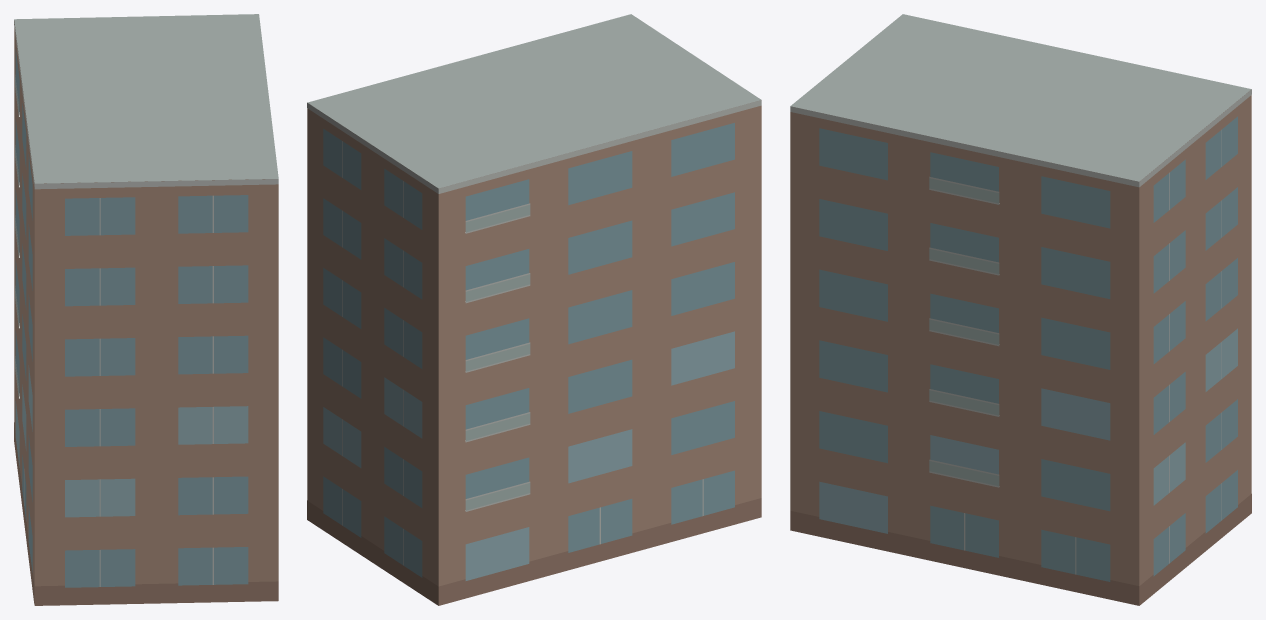
File: survey-upis-32555107.glb
3 views of the same model, side by side, from view 1: azimuth 30°, elevation 25°; view 2: azimuth 150°, elevation 25°; view 3: azimuth 270°, elevation 25° (orthographic).
Parts seen in each view (by area): view 1: survey-upis-32555107.tmp; view 2: survey-upis-32555107.tmp; view 3: survey-upis-32555107.tmp.
Boxes of the visible parts, bbox=[...] form: survey-upis-32555107.tmp: bbox=[14, 14, 278, 605]; survey-upis-32555107.tmp: bbox=[307, 14, 761, 605]; survey-upis-32555107.tmp: bbox=[790, 14, 1251, 605].
Bounding box in the file's own units: 15.53 × 18.3 × 18.05.
